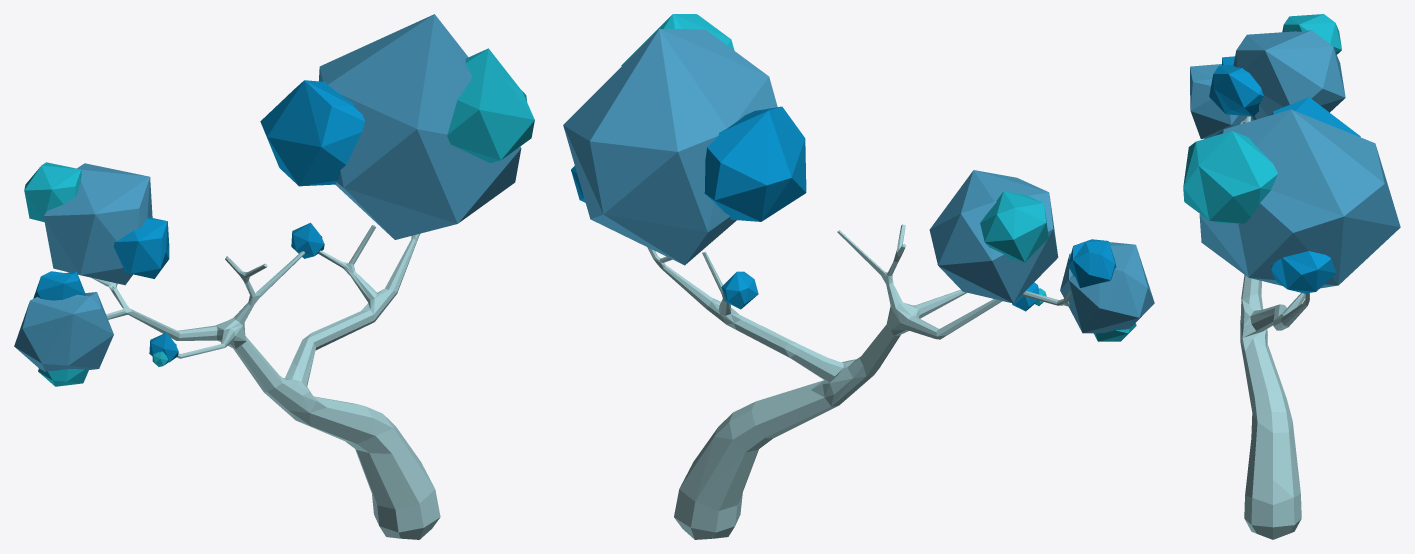
File: Cherry Tree ice.fbx
The picture shows the model from 3 angles, left to right: view 1: azimuth 30°, elevation 25°; view 2: azimuth 150°, elevation 25°; view 3: azimuth 270°, elevation 25°; orthographic projection. The views are drawn at different scales.
Parts seen in each view (by area): view 1: Icosphere.008, Cube, Icosphere, Icosphere.006, Icosphere.007, Icosphere.005, Icosphere.001, Icosphere.002, Icosphere.004, Icosphere.010, Icosphere.003; view 2: Icosphere.008, Cube, Icosphere.006, Icosphere, Icosphere.005, Icosphere.002, Icosphere.004, Icosphere.010, Icosphere.007; view 3: Icosphere.008, Cube, Icosphere, Icosphere.007, Icosphere.001, Icosphere.005, Icosphere.009, Icosphere.002, Icosphere.006.
Boxes of the visible parts, x1,y1,x2,y2 form: Icosphere.008: [319, 14, 521, 239]; Cube: [91, 225, 440, 539]; Icosphere: [43, 163, 152, 285]; Icosphere.006: [260, 80, 364, 186]; Icosphere.007: [447, 48, 534, 163]; Icosphere.005: [14, 292, 113, 371]; Icosphere.001: [113, 217, 169, 278]; Icosphere.002: [24, 162, 81, 222]; Icosphere.004: [33, 271, 85, 300]; Icosphere.010: [291, 222, 324, 258]; Icosphere.003: [38, 368, 88, 386]; Icosphere.008: [563, 29, 777, 265]; Cube: [647, 224, 1070, 539]; Icosphere.006: [704, 106, 806, 221]; Icosphere: [929, 170, 1058, 303]; Icosphere.005: [1060, 242, 1154, 333]; Icosphere.002: [980, 191, 1048, 262]; Icosphere.004: [1068, 239, 1116, 287]; Icosphere.010: [721, 271, 758, 309]; Icosphere.007: [621, 14, 734, 65]; Icosphere.008: [1199, 109, 1400, 288]; Cube: [1240, 116, 1309, 539]; Icosphere: [1233, 30, 1345, 119]; Icosphere.007: [1183, 131, 1277, 223]; Icosphere.001: [1209, 64, 1263, 116]; Icosphere.005: [1190, 64, 1253, 138]; Icosphere.009: [1271, 251, 1335, 293]; Icosphere.002: [1282, 14, 1341, 54]; Icosphere.006: [1271, 97, 1360, 137].
Size of the model in its own units: 1151 by 1058 by 471.
